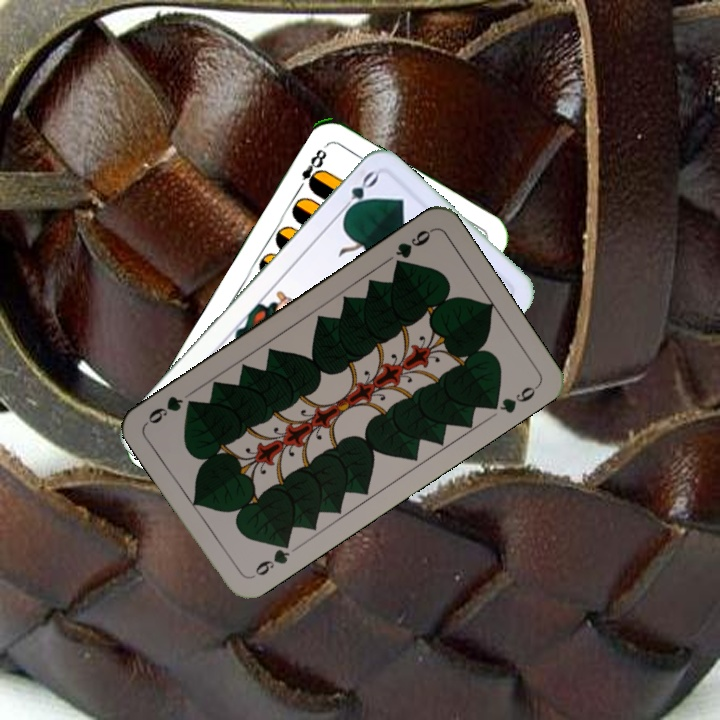E8: (293, 145, 330, 194)
G9: (247, 535, 300, 581), (390, 225, 435, 272)
GO: (335, 167, 381, 220)
